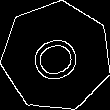O_E: (25, 27, 88, 86)
